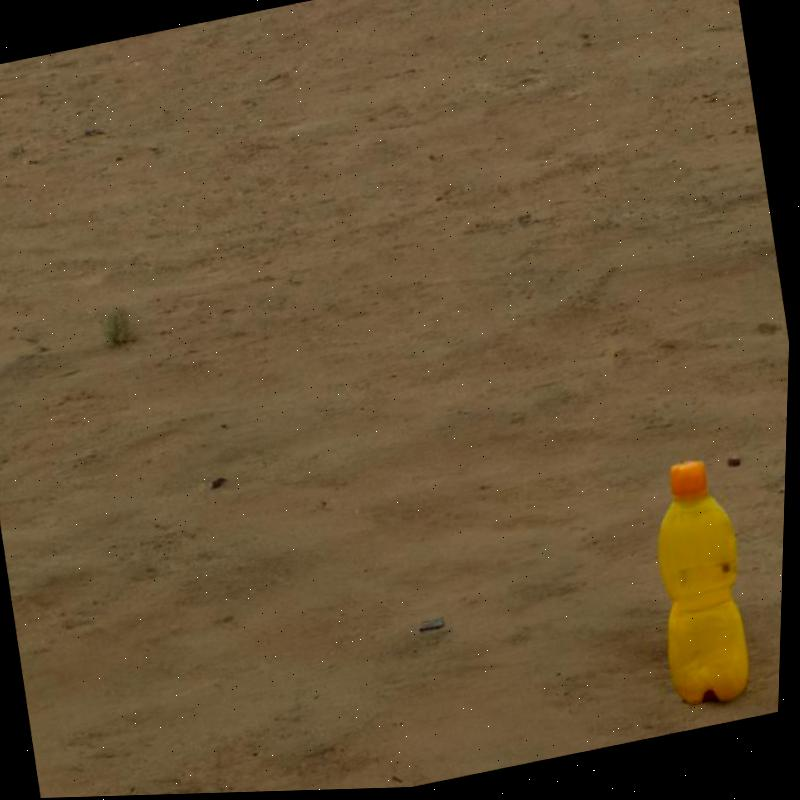botella: (633, 451, 774, 721)
